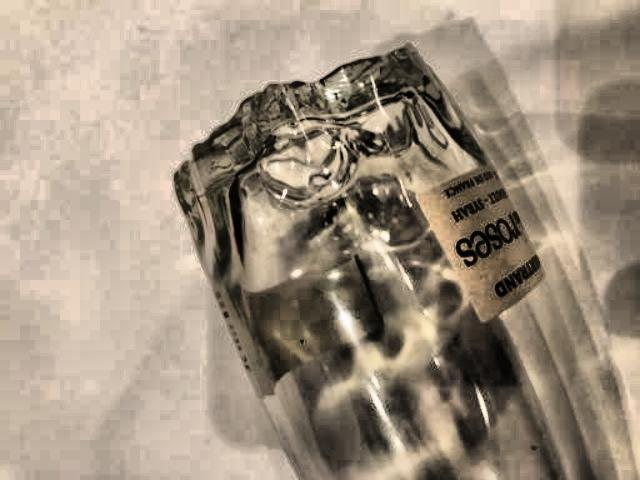Bottles: (152, 39, 624, 480)
